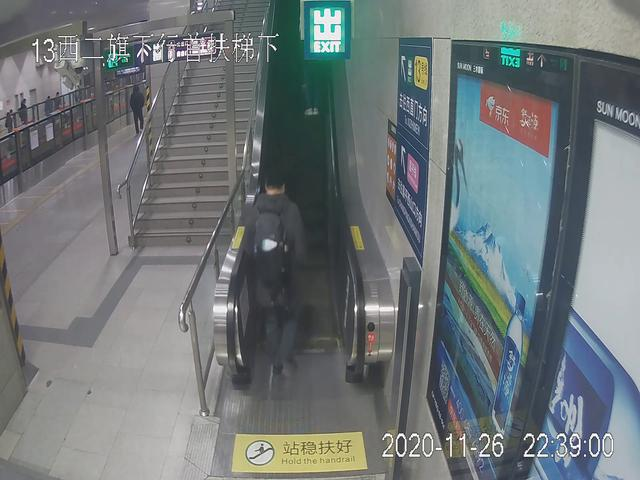person: (236, 171, 312, 376), (127, 84, 144, 134)
